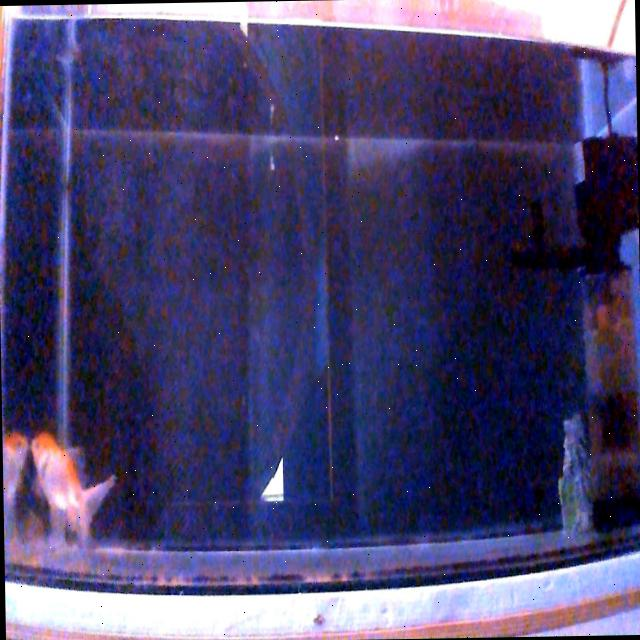fish: (28, 428, 118, 546), (2, 430, 32, 514)
